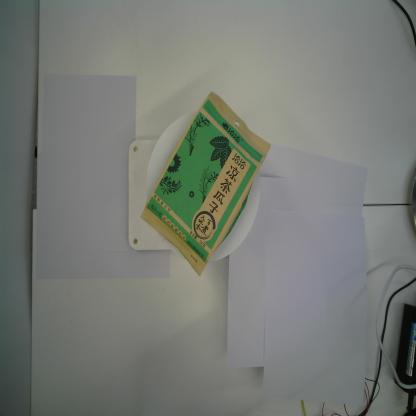Dried Food: (139, 89, 272, 279)
